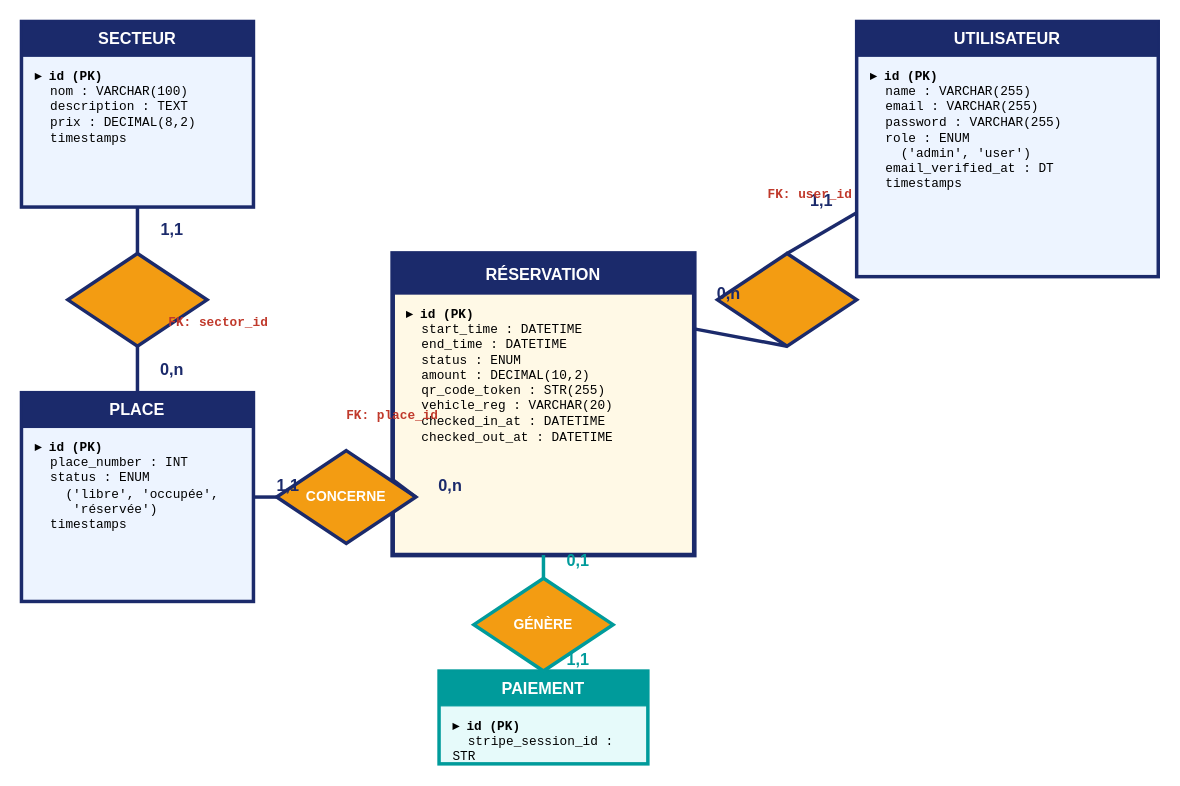
This 1180x786 diagram has some shape labels left out. Each missing label, with the box of its shape:
CONTIENT: (66, 251, 208, 347)
EFFECTUE: (715, 251, 858, 347)
